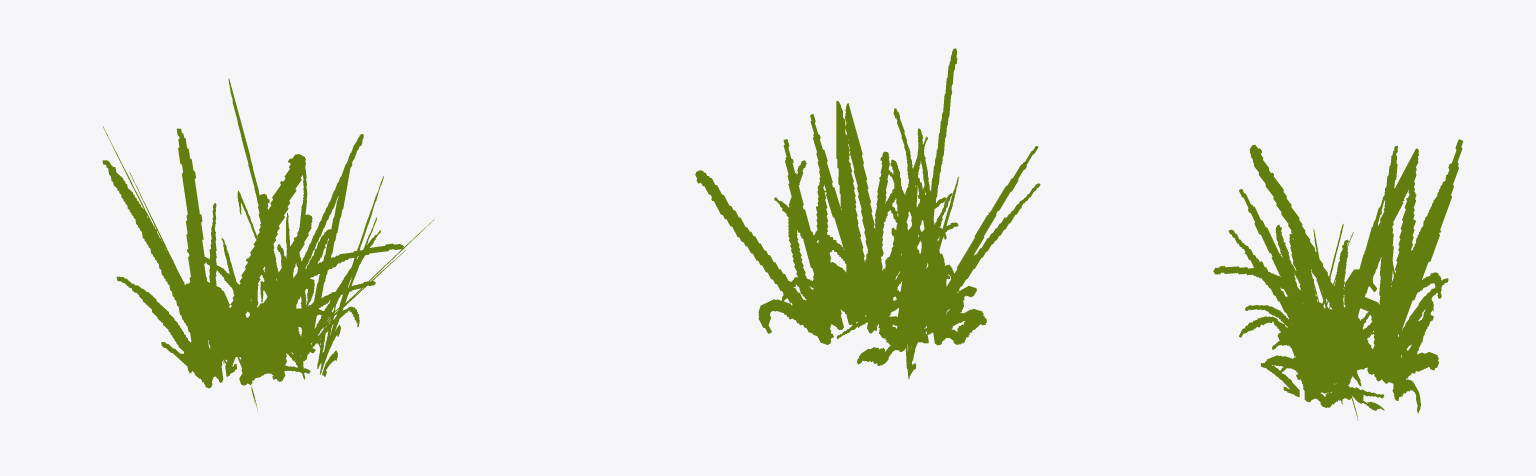
Rendered from Grass.fbx.
3 views of the same model, side by side, from view 1: azimuth 30°, elevation 25°; view 2: azimuth 150°, elevation 25°; view 3: azimuth 270°, elevation 25° (orthographic). The views are drawn at different scales.
Visible parts, largest first — view 1: Plane.006; view 2: Plane.006; view 3: Plane.006.
Boxes of the visible parts, x1,y1,x2,y2 form: Plane.006: (102, 78, 434, 412); Plane.006: (695, 48, 1040, 378); Plane.006: (1213, 139, 1463, 420).
Size of the model in its own units: 90.13 by 97.05 by 86.05.
